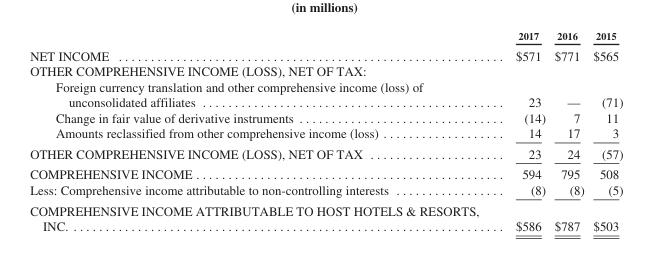table: (29, 29, 622, 232)
table column: (29, 29, 496, 232), (496, 29, 549, 232), (549, 29, 588, 232), (588, 29, 622, 232)
table column header: (29, 29, 622, 44)
table projected row header: (29, 62, 622, 78)
table row: (29, 199, 622, 232), (29, 78, 622, 109), (29, 143, 622, 163), (29, 124, 622, 143), (29, 44, 622, 62), (29, 163, 622, 181), (29, 181, 622, 199), (29, 62, 622, 78), (29, 29, 622, 44), (29, 109, 622, 124)
